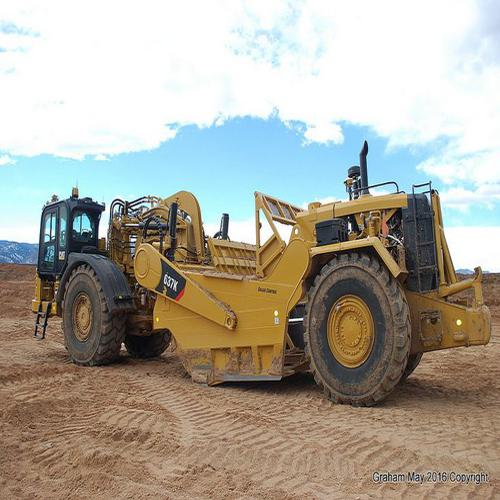con_eq: (42, 168, 496, 407)
